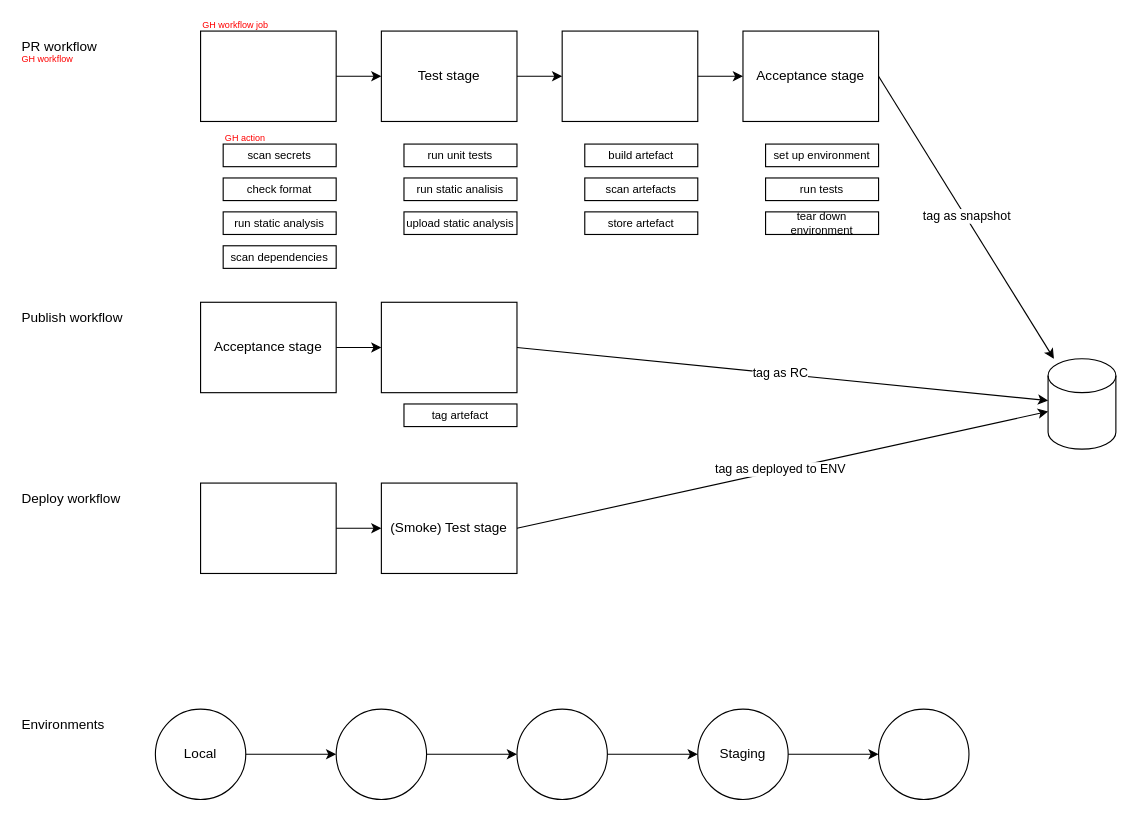
Some shapes in this 1136 by 819 pixel diagram are drawn without their labels. Each missing label, with the centre of its shape:
Artefact repository: [1081,403]
Build stage: [629,75]
Commit stage: [267,75]
Deploy stage: [267,527]
Ephemeral: [381,753]
Live: [923,753]
Publish stage: [448,347]
Testing: [561,753]
